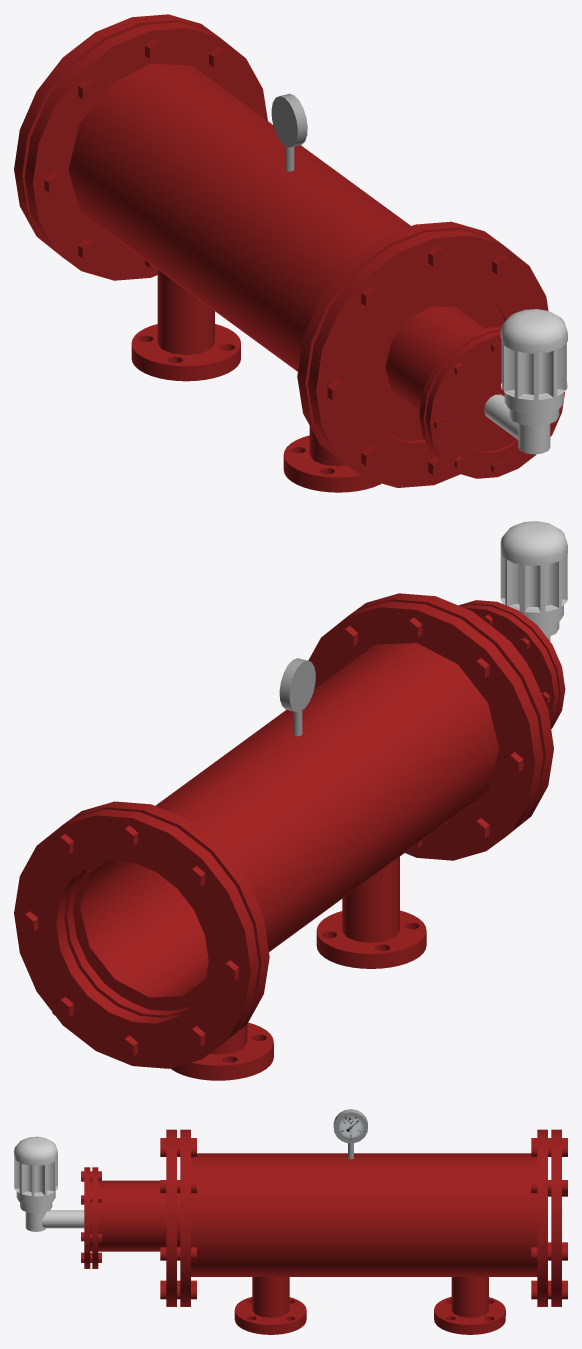
Rendered from self_cleaning_filter.obj.
3 renders of one model, top to bottom at view 1: azimuth 30°, elevation 25°; view 2: azimuth 150°, elevation 25°; view 3: azimuth 270°, elevation 25°, orthographic. The views are drawn at different scales.
Parts seen in each view (by area): view 1: __.2, __, __.1, __.3, ___2, __.4, __.5; view 2: __.2, __, __.1, ___1; view 3: __.2, __, __.1, __.3, __.5, __.4.
Boxes of the visible parts, x1,y1,x2,y2 form: __.2: (24, 22, 567, 487); __: (14, 14, 564, 492); __.1: (44, 38, 567, 475); __.3: (138, 306, 559, 453); ___2: (49, 41, 513, 478); __.4: (518, 423, 550, 454); __.5: (484, 394, 518, 439); __.2: (64, 521, 567, 1050); __: (14, 598, 565, 1080); __.1: (17, 551, 567, 1055); ___1: (17, 620, 518, 1058); __.2: (14, 1129, 547, 1306); __: (16, 1116, 561, 1334); __.1: (14, 1109, 567, 1320); __.3: (20, 1180, 493, 1303); __.5: (41, 1210, 84, 1228); __.4: (25, 1212, 494, 1320).
Size of the model in its own units: 121 by 160 by 376.
